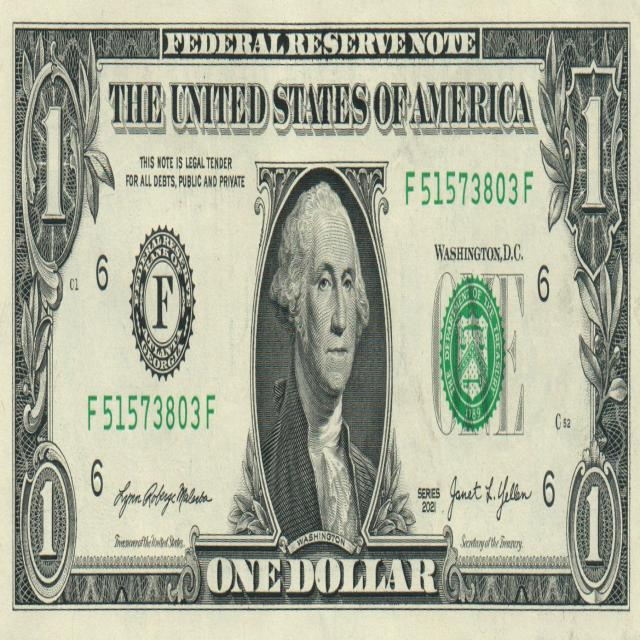SerialNumber: (88, 395, 215, 431), (406, 171, 533, 205)
